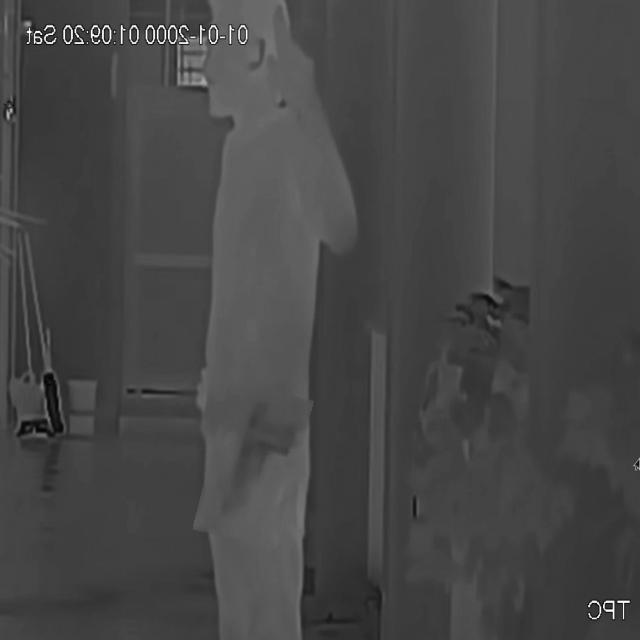Weapon: (202, 384, 306, 546)
